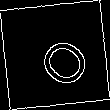O_NW: (21, 22, 89, 88)
